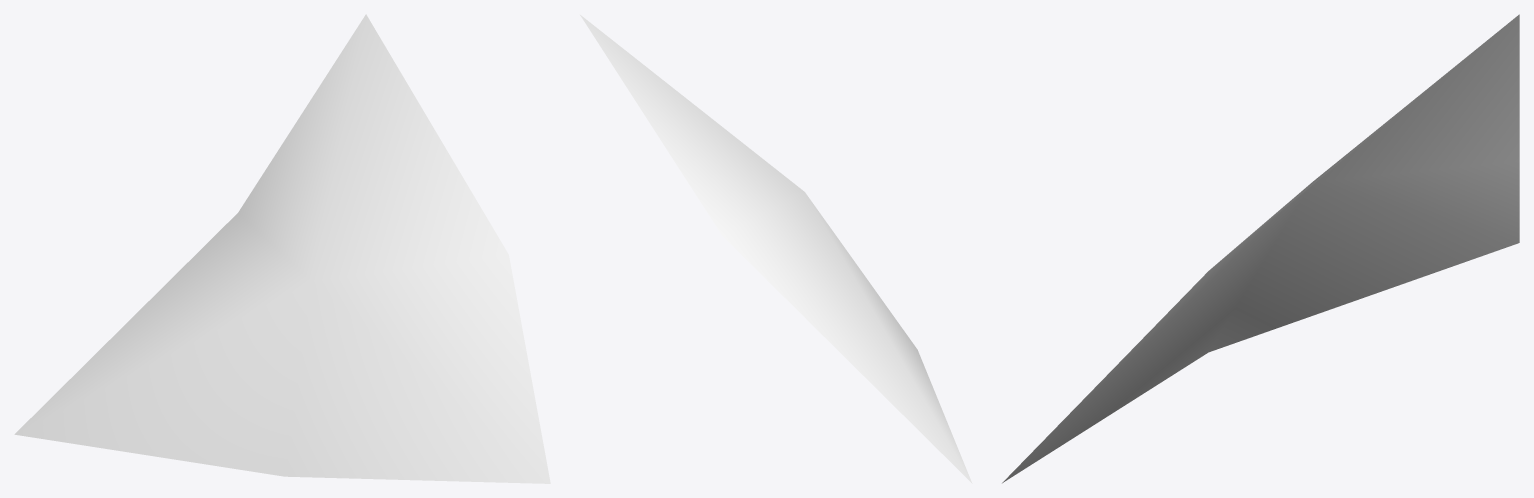
File: cobwebs_corner.fbx
3 views of the same model, side by side, from view 1: azimuth 30°, elevation 25°; view 2: azimuth 150°, elevation 25°; view 3: azimuth 270°, elevation 25° (orthographic). The views are drawn at different scales.
Parts seen in each view (by area): view 1: mesh_0, mesh_1; view 2: mesh_0, mesh_1; view 3: mesh_0, mesh_1.
Boxes of the visible parts, x1,y1,x2,y2 form: mesh_0: (14,14,550,483); mesh_1: (16,22,549,483); mesh_0: (580,15,972,483); mesh_1: (598,42,971,481); mesh_0: (1002,14,1519,483); mesh_1: (1004,39,1519,480).
Bounding box in the file's own units: 120 × 100 × 100.
Materials: 1 (1 with a texture image).
